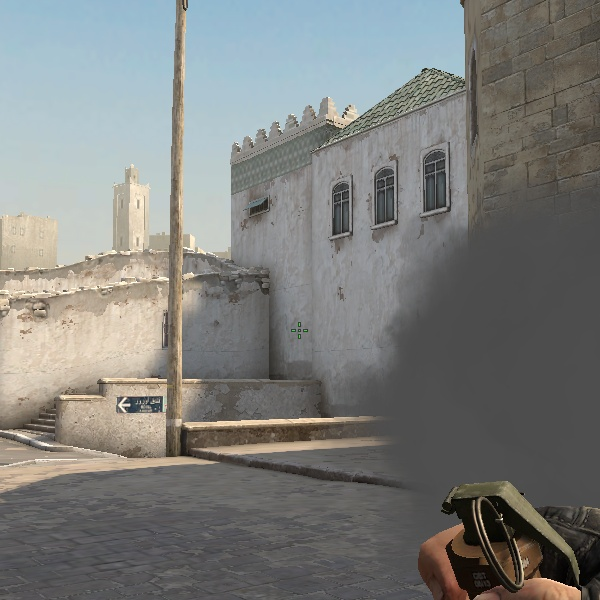t_body: (376, 468, 595, 600)
